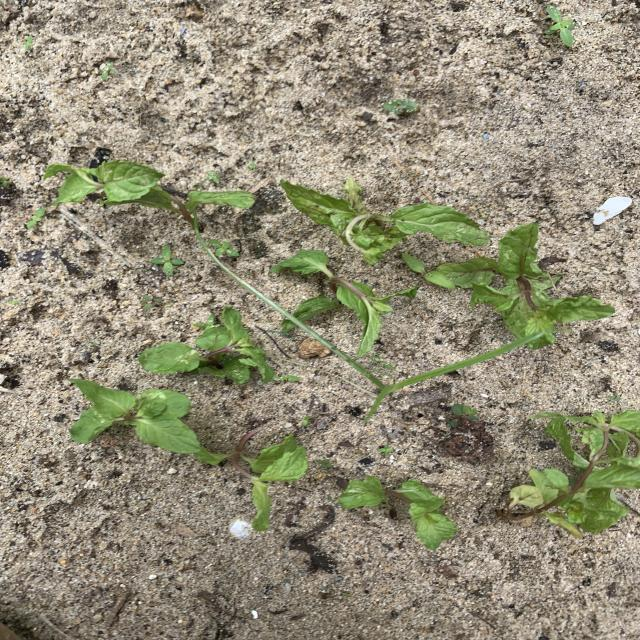crop: (447, 223, 614, 349), (280, 177, 489, 263), (509, 408, 639, 536), (272, 250, 413, 348), (43, 161, 254, 219), (194, 431, 307, 530), (139, 306, 275, 383), (69, 384, 203, 454), (340, 477, 455, 550)
weed: (195, 228, 526, 420), (402, 253, 455, 289), (545, 6, 575, 46), (152, 244, 183, 275), (450, 404, 478, 427), (208, 239, 239, 258), (383, 99, 417, 115), (27, 207, 46, 229), (142, 293, 166, 310), (378, 445, 394, 456), (316, 459, 332, 469), (300, 415, 311, 427)
